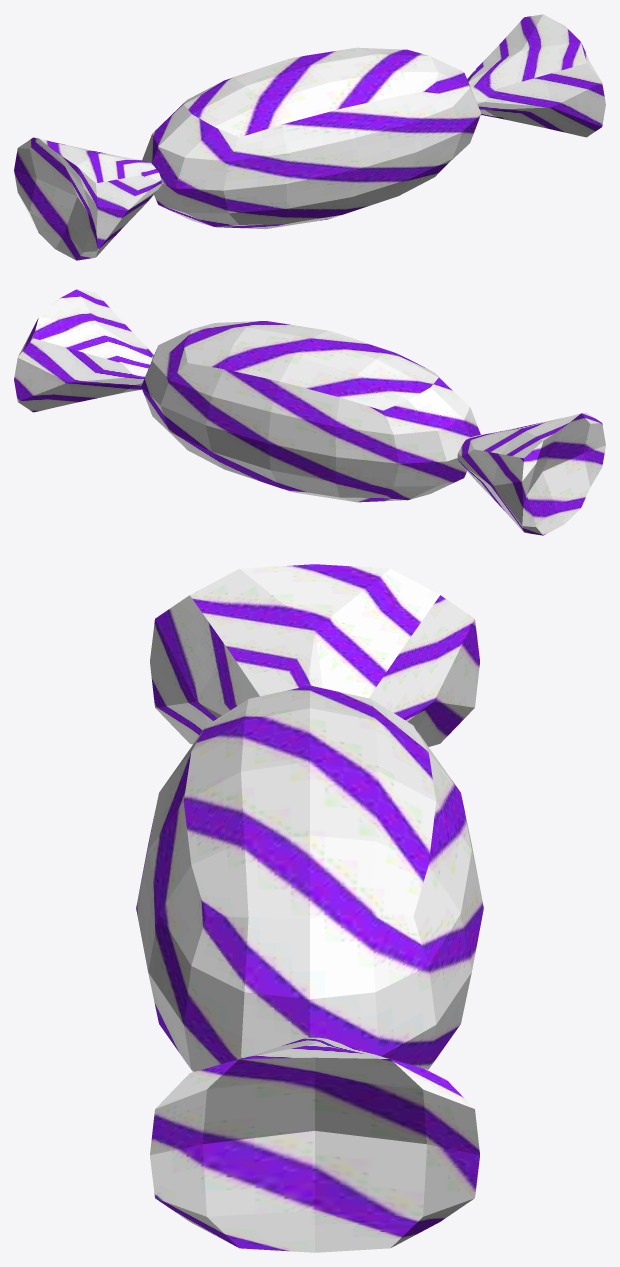
Rendered from purpleCandy.fbx.
3 views of the same model, one above another, from view 1: azimuth 30°, elevation 25°; view 2: azimuth 150°, elevation 25°; view 3: azimuth 270°, elevation 25° (orthographic). The views are drawn at different scales.
Visible parts, largest first — view 1: Cube.005; view 2: Cube.005; view 3: Cube.005.
Part boxes in pixels (box(x1,y1,x2,y2)): Cube.005: box(14, 14, 605, 260); Cube.005: box(14, 289, 605, 535); Cube.005: box(136, 564, 483, 1252).
Size of the model in its own units: 1093 by 301 by 323.
